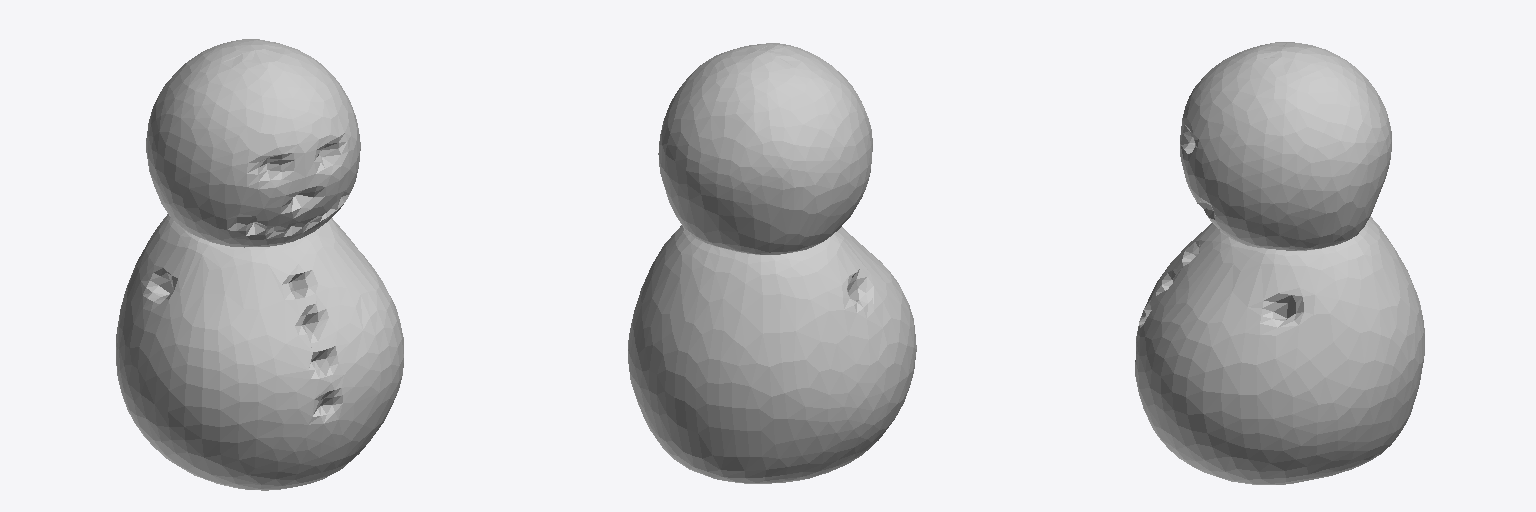
File: snowman.obj
3 renders of one model, left to right at view 1: azimuth 30°, elevation 25°; view 2: azimuth 150°, elevation 25°; view 3: azimuth 270°, elevation 25°, orthographic.
Bounding box in the file's own units: 0.7639 × 1.22 × 0.7821.